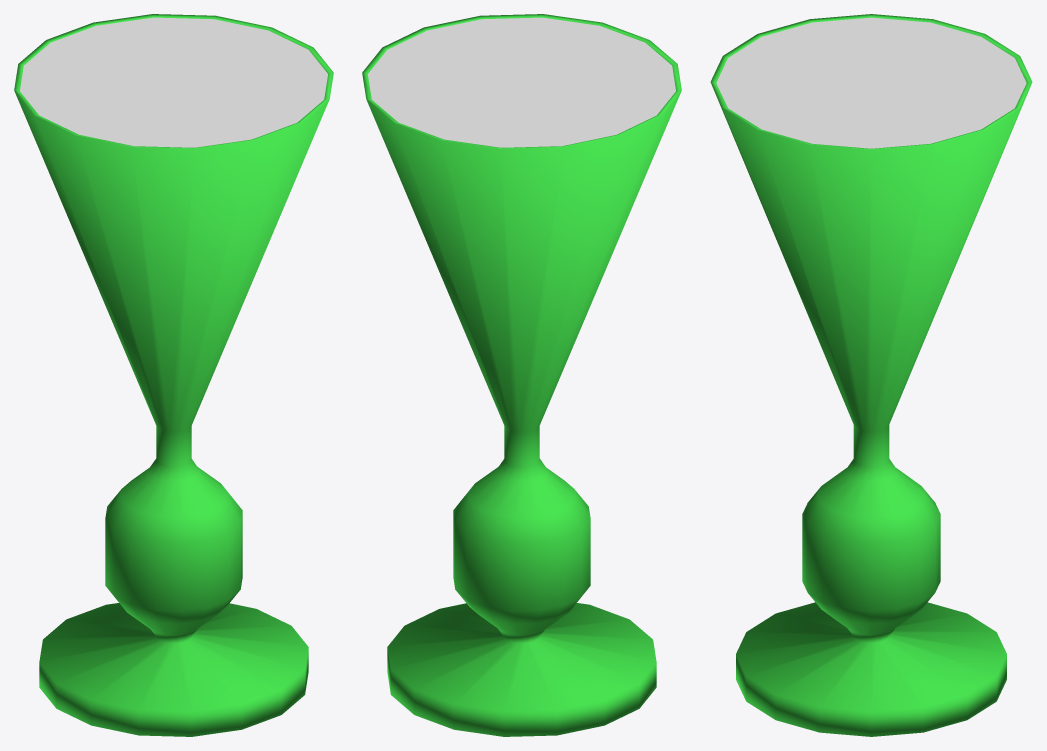
File: Glass1.fbx
3 renders of one model, left to right at view 1: azimuth 30°, elevation 25°; view 2: azimuth 150°, elevation 25°; view 3: azimuth 270°, elevation 25°, orthographic.
Visible parts, largest first — view 1: glass1, liquid1; view 2: glass1, liquid1; view 3: glass1, liquid1.
Boxes of the visible parts, bbox=[...] form: glass1: bbox=[14, 14, 333, 736]; liquid1: bbox=[20, 17, 327, 147]; glass1: bbox=[362, 14, 681, 736]; liquid1: bbox=[368, 17, 675, 147]; glass1: bbox=[710, 14, 1032, 736]; liquid1: bbox=[716, 17, 1026, 148].
Size of the model in its own units: 200 by 410 by 200.
